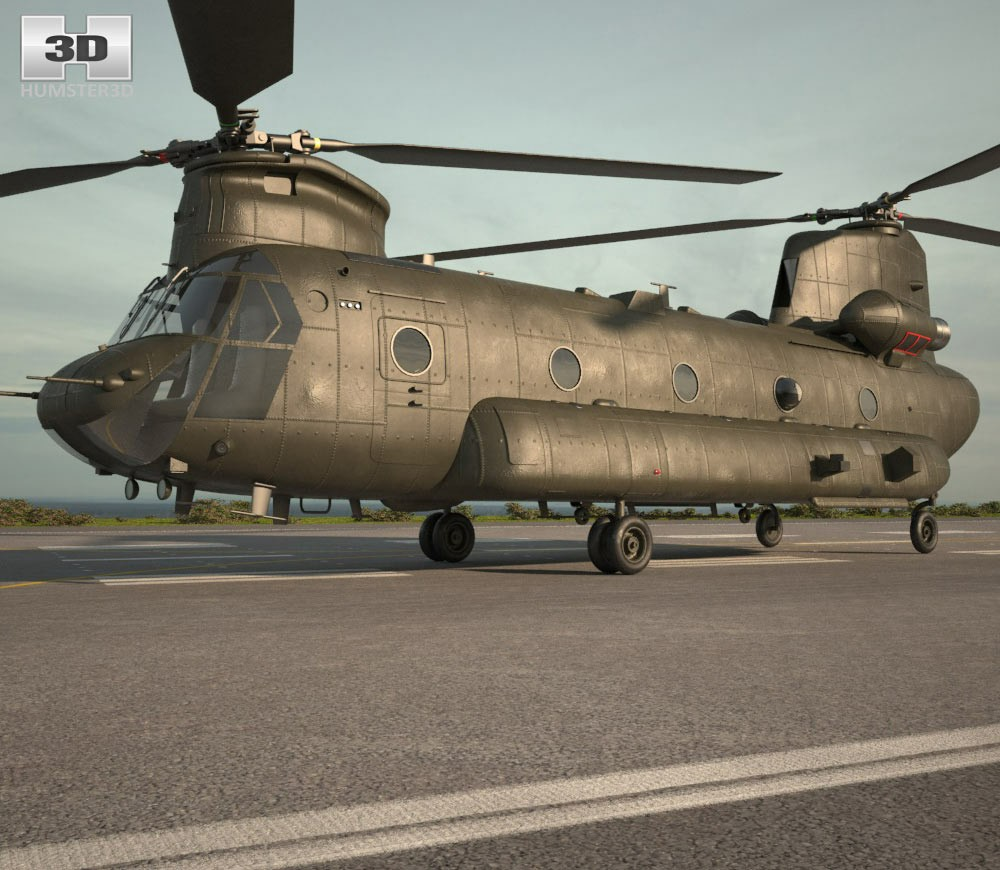chinook: (24, 10, 989, 573)
